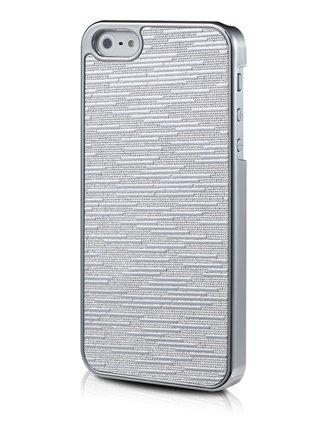phone: (78, 19, 249, 395)
